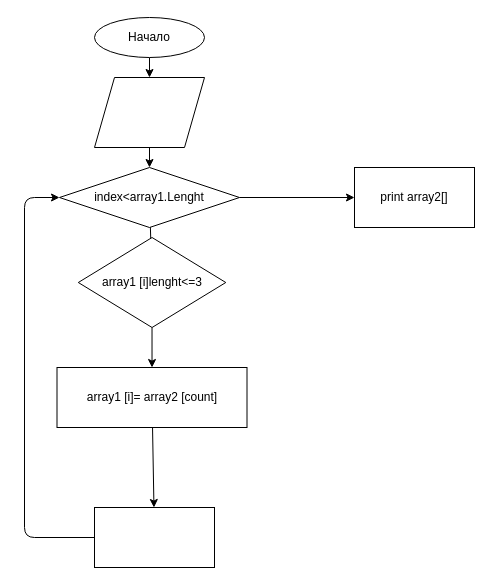
Some shapes in this 492 by 585 pixel diagram are drawn without their labels. Each missing label, with the centre of its shape:
index = index +1 count = count +1: the point at 154,537
string array1[] string array2[] i =0; count = 0.: the point at 149,112
